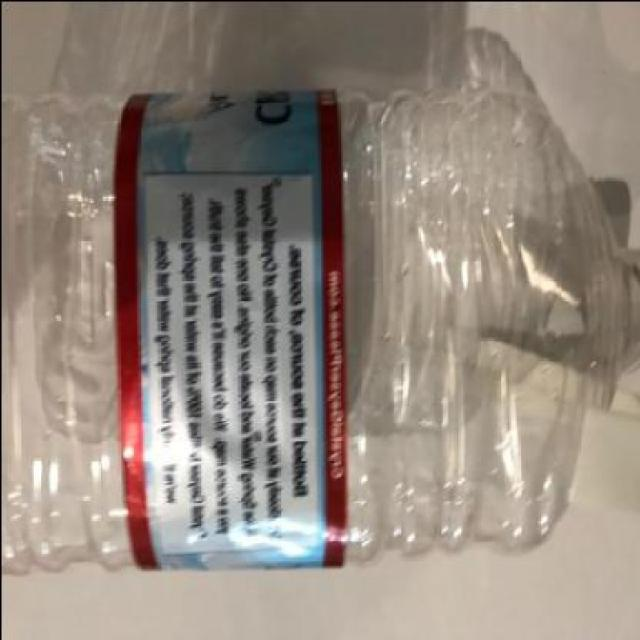PLASTIC: (1, 82, 638, 572), (112, 87, 346, 573)
